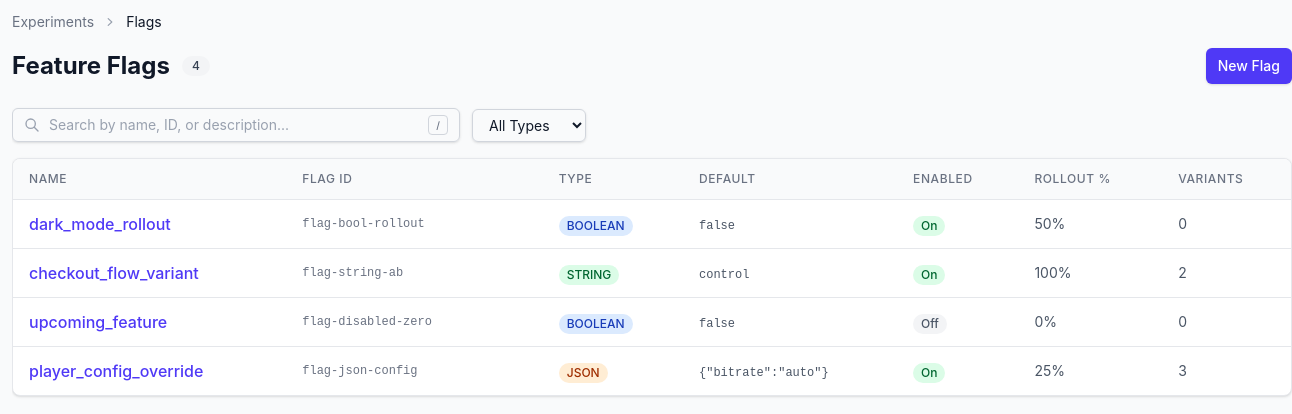
it: Flag List Page › shows no-filter-matches when filters have no results
Expected: the link "dark_mode_rollout" is shown, [29, 214, 171, 234]
In the field with test id "flag-search": (236, 125) [12, 108, 460, 142], type "zzzznonexistent"
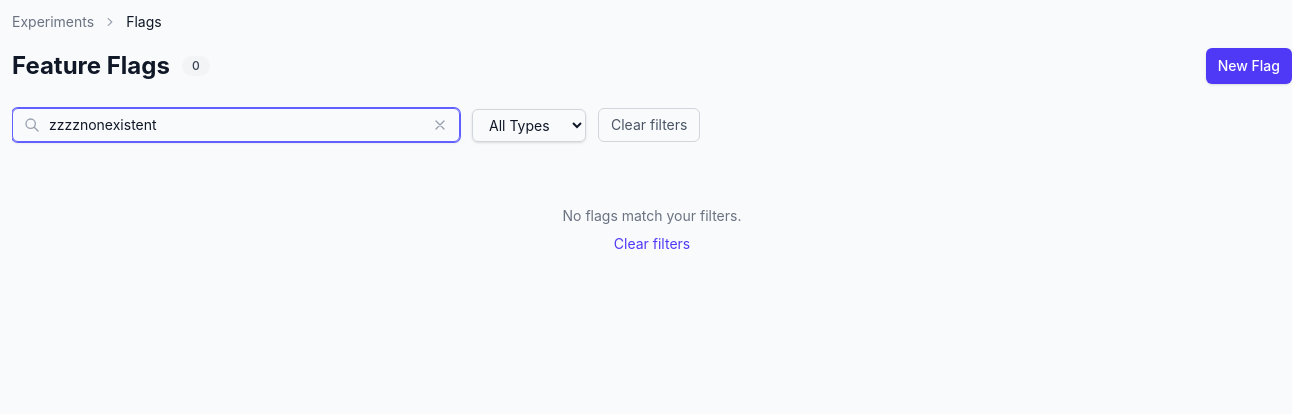
Result: the element with test id "no-filter-matches" is shown at [562, 207, 742, 254]
Result: the text "No flags match your filters." is shown at [562, 207, 742, 224]
